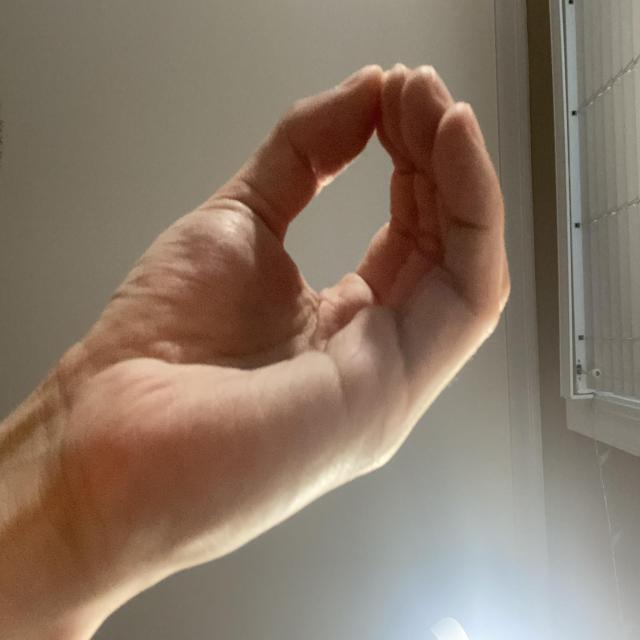O: (200, 162, 614, 640)
